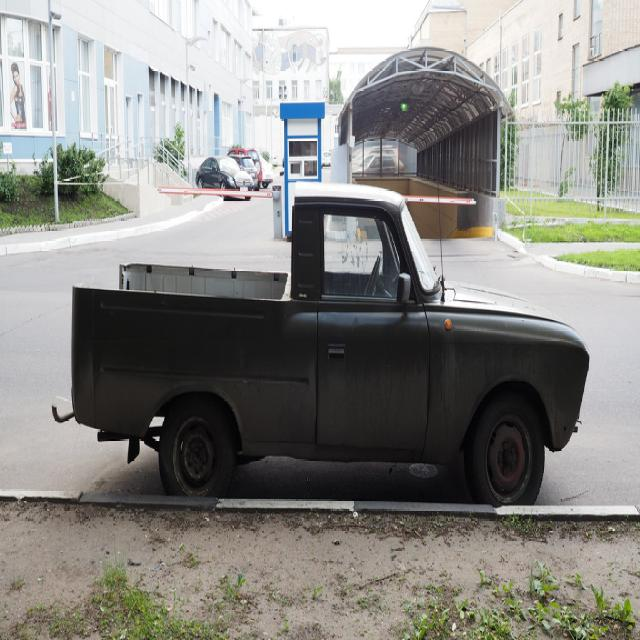car: (88, 177, 601, 508)
